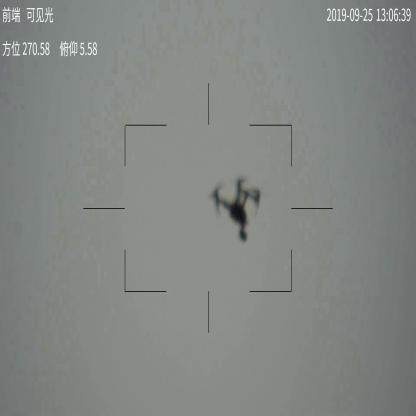uav: (209, 173, 263, 243)
